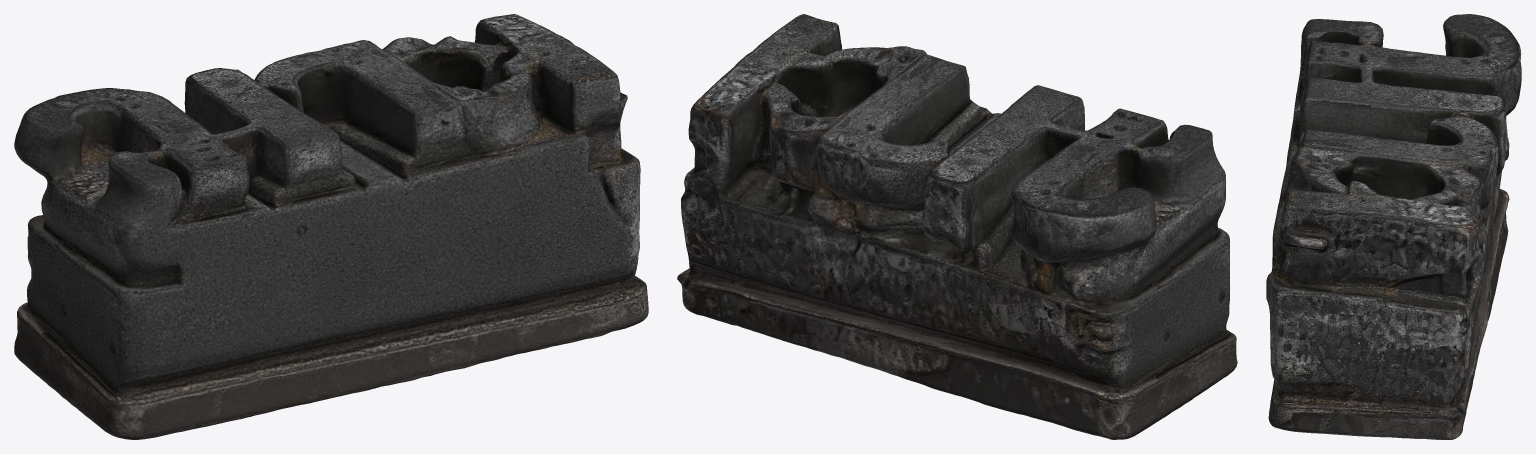
File: movable-type.glb
3 renders of one model, left to right at view 1: azimuth 30°, elevation 25°; view 2: azimuth 150°, elevation 25°; view 3: azimuth 270°, elevation 25°, orthographic. The views are drawn at different scales.
Visible parts, largest first — view 1: tripo_node_a3028227-24f3-4da5-88fc-8b64efac2654; view 2: tripo_node_a3028227-24f3-4da5-88fc-8b64efac2654; view 3: tripo_node_a3028227-24f3-4da5-88fc-8b64efac2654.
Boxes of the visible parts, bbox=[...] form: tripo_node_a3028227-24f3-4da5-88fc-8b64efac2654: bbox=[14, 14, 648, 439]; tripo_node_a3028227-24f3-4da5-88fc-8b64efac2654: bbox=[677, 14, 1237, 439]; tripo_node_a3028227-24f3-4da5-88fc-8b64efac2654: bbox=[1266, 14, 1521, 439].
Size of the model in its own units: 1 by 0.4717 by 0.4859.
1 material, 1 textured.
